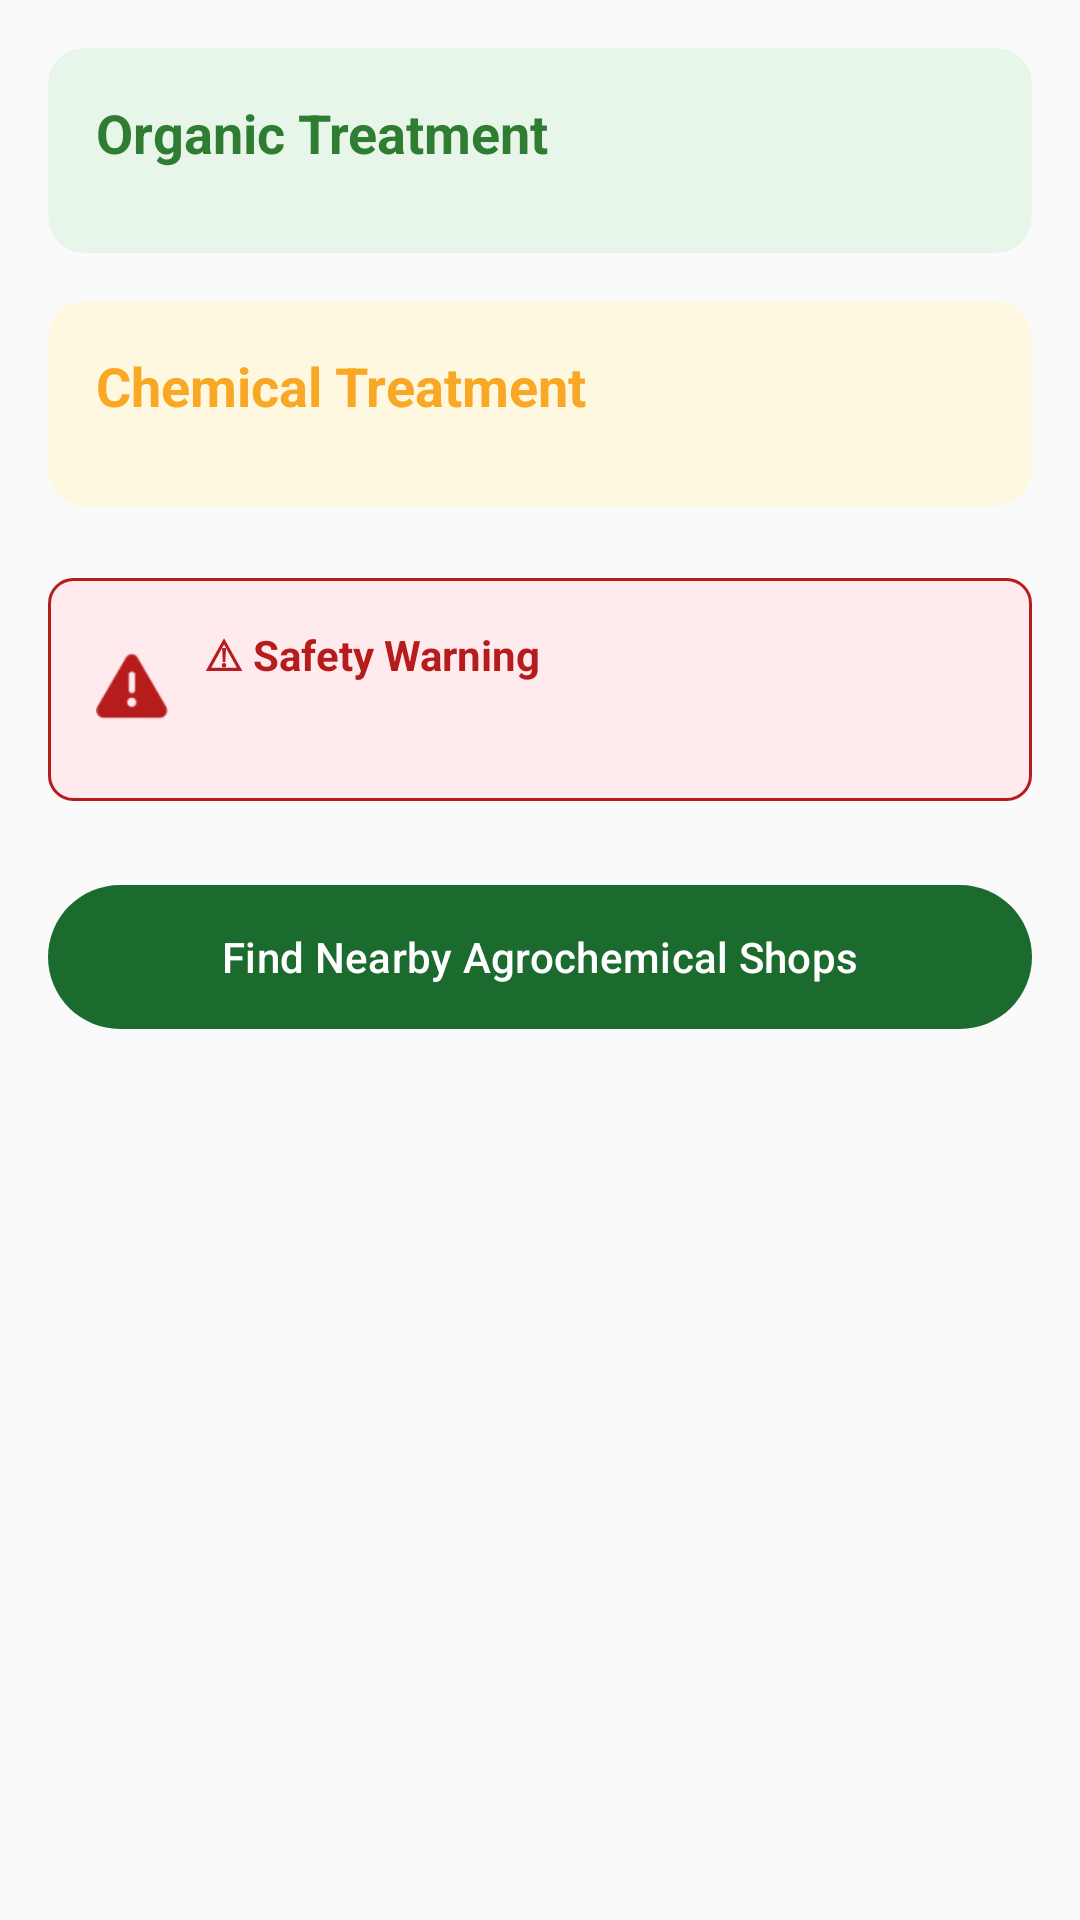

Where to tap for icons on this 1080px x 1920px app screen, as [x,y]:
alert: [132,686]
